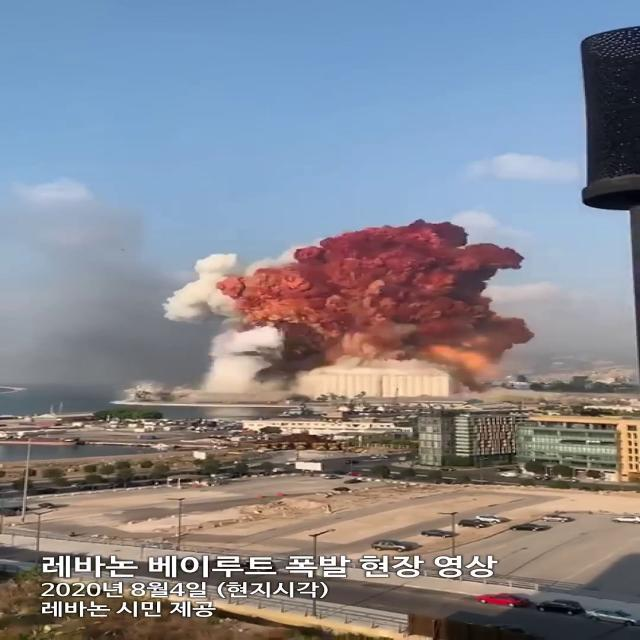explosion: (169, 199, 560, 439)
